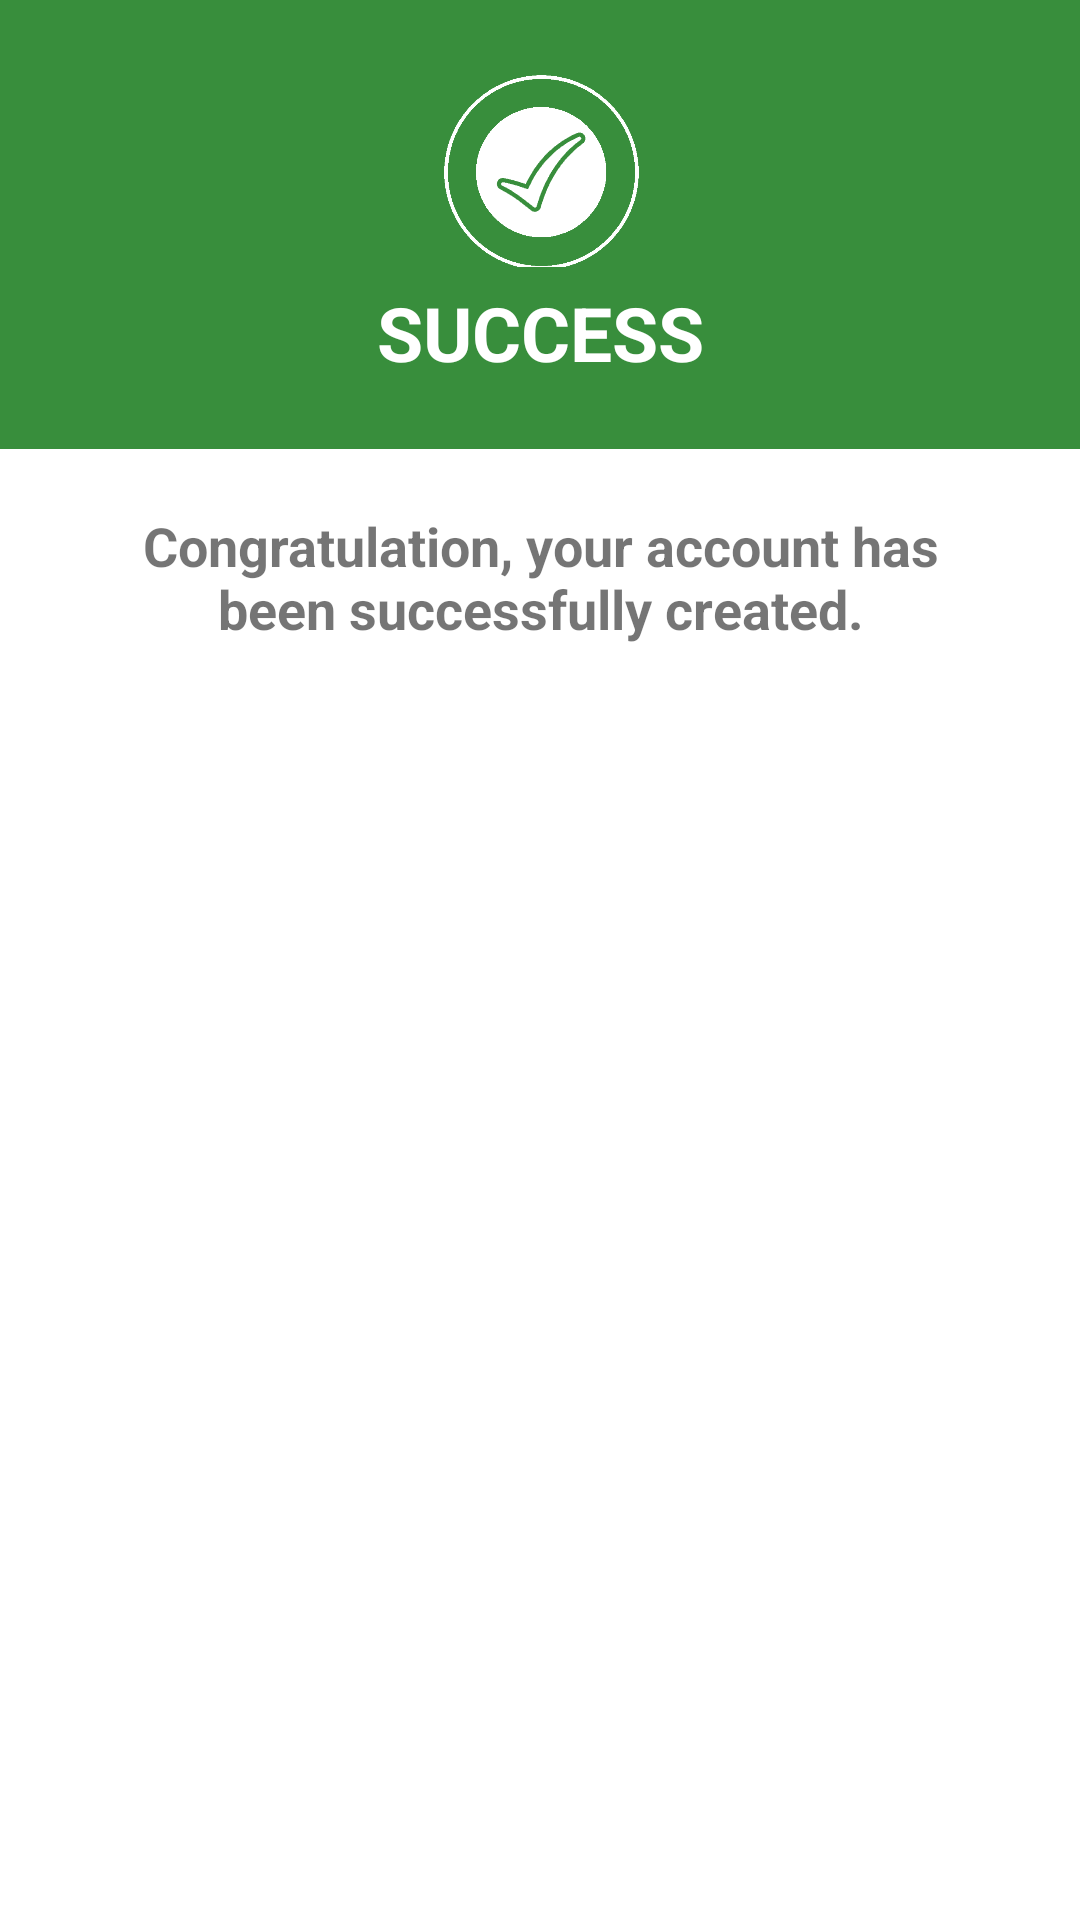

Named icons in this screenshot (1080×1920) and their bounding boxes, (x1, y1, x2, y2):
circular check mark: (444, 75, 639, 267)
